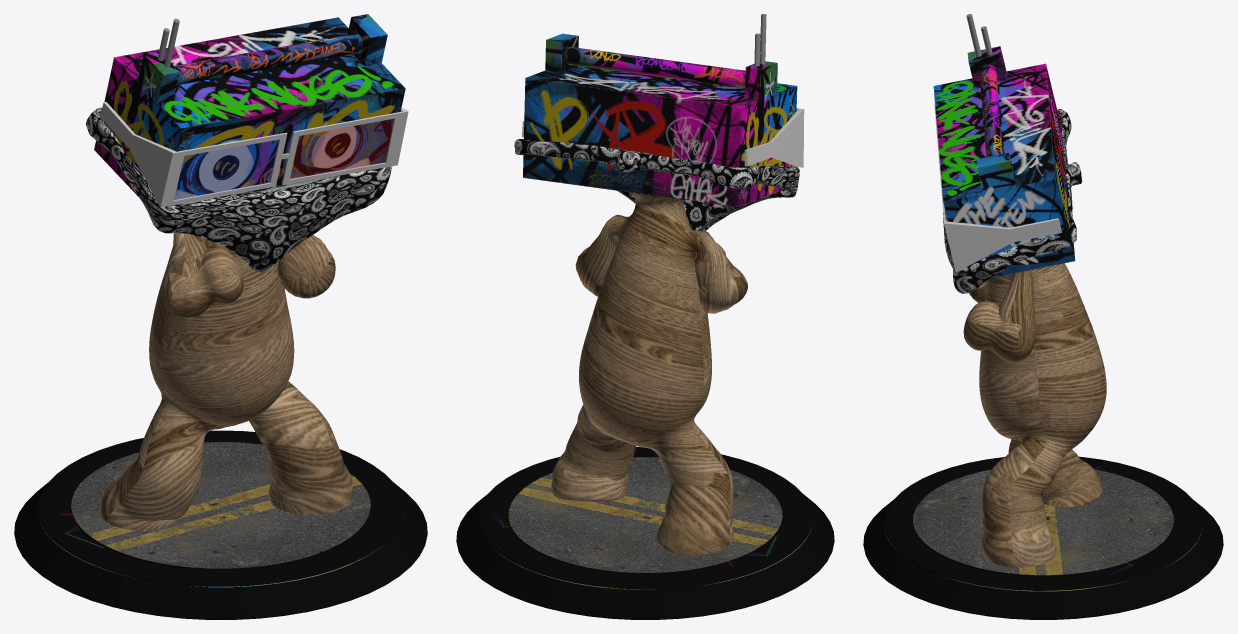
The model's file is 139_sanitized.glb.
3 renders of one model, left to right at view 1: azimuth 30°, elevation 25°; view 2: azimuth 150°, elevation 25°; view 3: azimuth 270°, elevation 25°, orthographic. The views are drawn at different scales.
Parts seen in each view (by area): view 1: BBody; view 2: BBody; view 3: BBody.
Boxes of the visible parts, x1=… form: BBody: x1=14, y1=14, x2=427, y2=619; BBody: x1=456, y1=14, x2=834, y2=619; BBody: x1=863, y1=14, x2=1223, y2=619.
Bounding box in the file's own units: 1.45 × 2.18 × 1.45.
9 materials, 5 textured.
